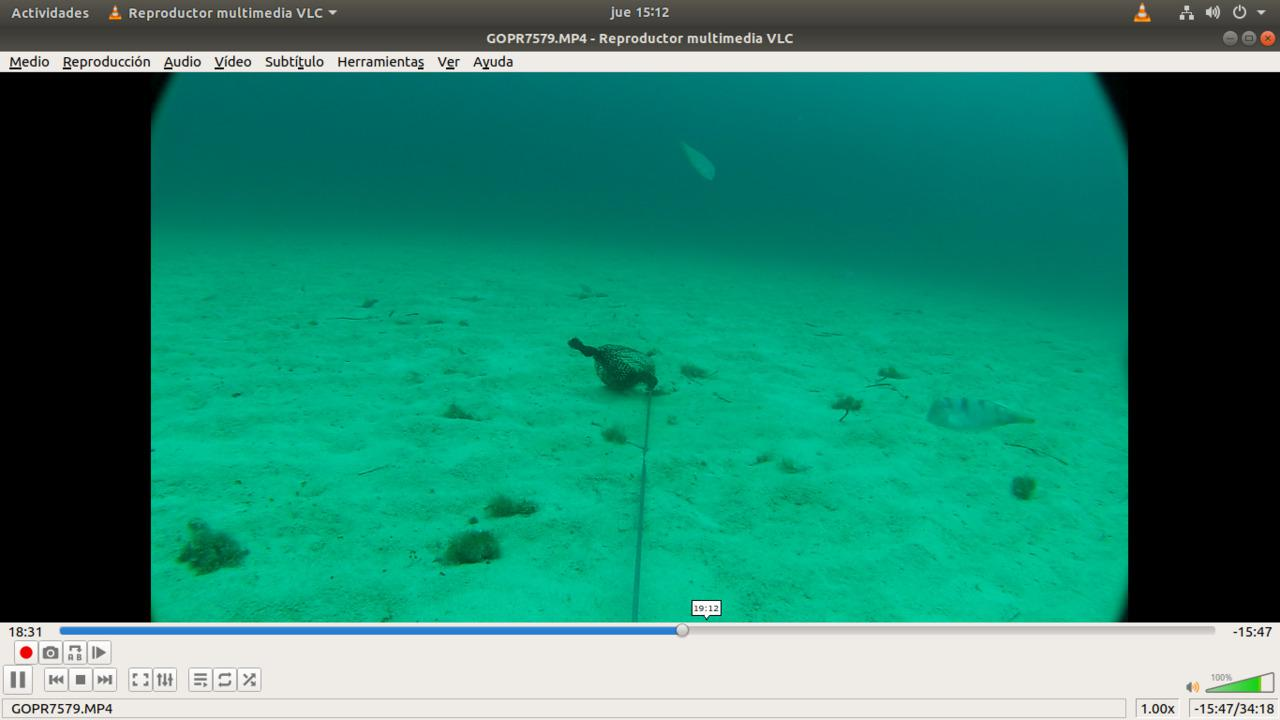raor: (913, 387, 1043, 440), (674, 137, 718, 183)
